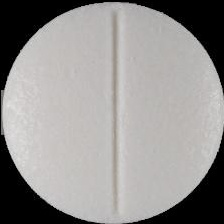43063-558: (0, 0, 224, 224)
